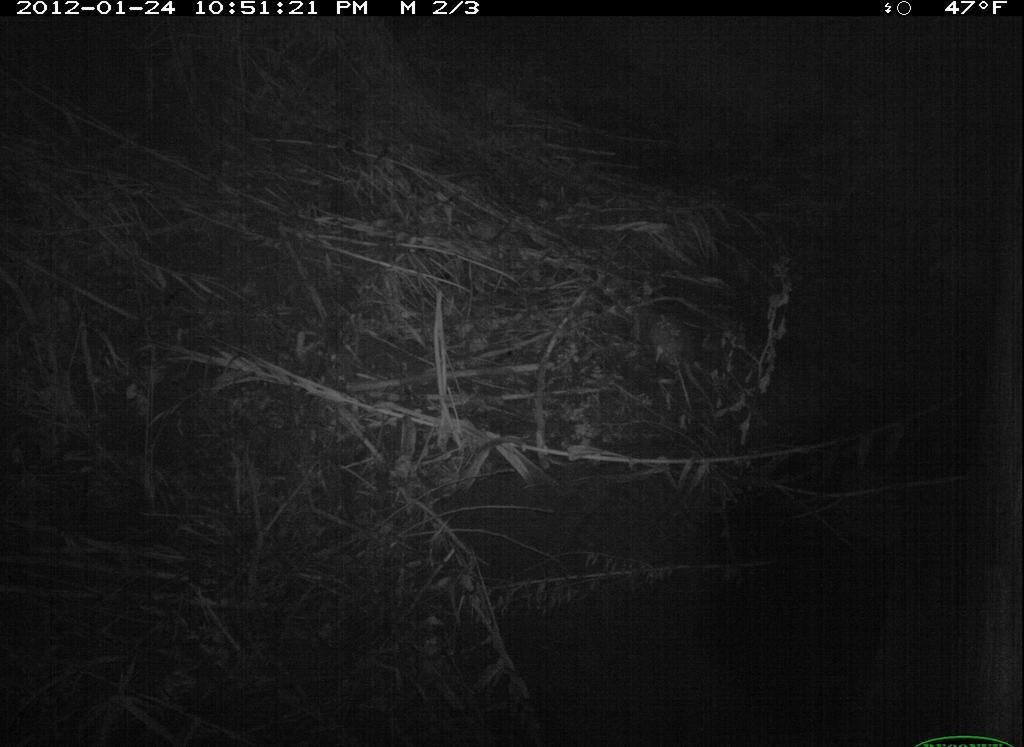opossum: (617, 281, 747, 436)
